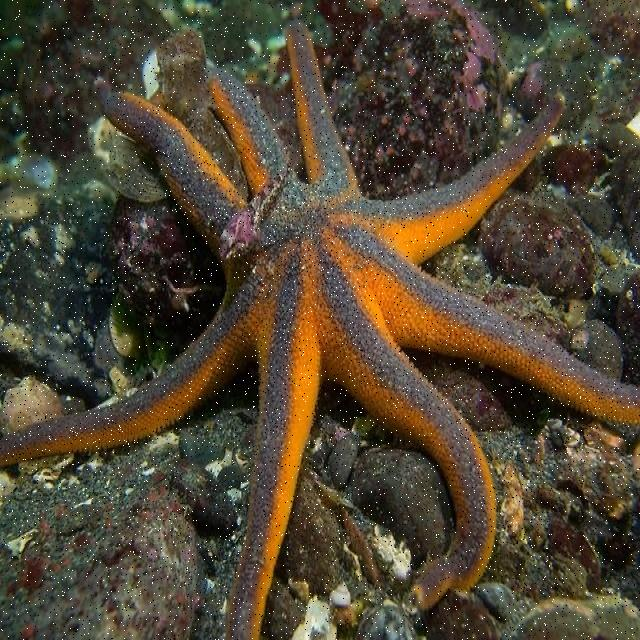reefs: (0, 18, 639, 639)
